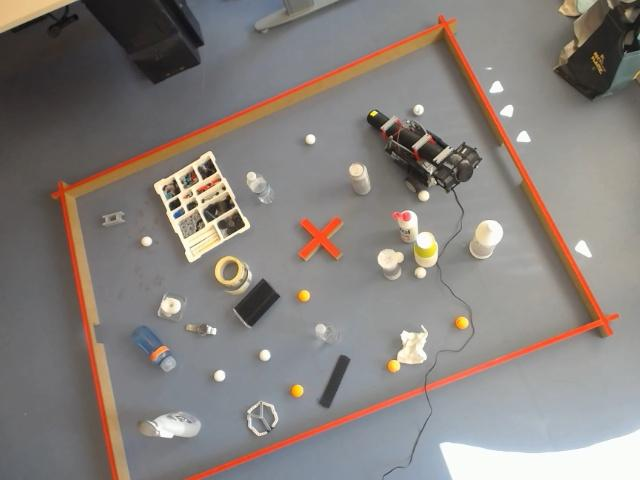orange: (454, 315, 471, 330), (387, 360, 400, 372), (291, 385, 304, 397), (299, 290, 309, 301)
robot: (366, 110, 482, 195)
robot-front: (367, 109, 388, 129)
white: (414, 266, 427, 279), (260, 349, 271, 361), (215, 371, 226, 382), (414, 104, 424, 115), (141, 237, 153, 246), (418, 191, 430, 200), (305, 134, 315, 144), (395, 252, 404, 263)
